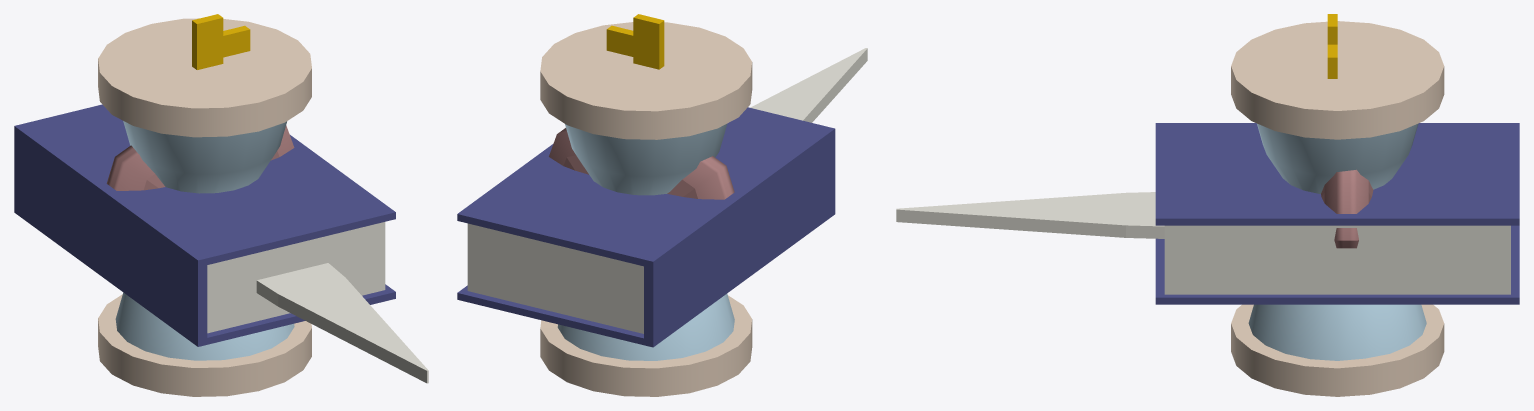
File: Random Props.fbx
The picture shows the model from 3 angles, left to right: view 1: azimuth 30°, elevation 25°; view 2: azimuth 150°, elevation 25°; view 3: azimuth 270°, elevation 25°; orthographic projection.
Parts seen in each view (by area): view 1: Book, Hourglass, Dagger, Key, Heart; view 2: Book, Hourglass, Dagger, Heart, Key; view 3: Book, Hourglass, Dagger, Heart, Key.
Part boxes in pixels (left/top/right/bottom): Book: left=14, top=104, right=395, bottom=346; Hourglass: left=98, top=18, right=311, bottom=396; Dagger: left=256, top=263, right=428, bottom=383; Key: left=192, top=14, right=250, bottom=69; Heart: left=106, top=125, right=294, bottom=190; Book: left=457, top=107, right=835, bottom=347; Hourglass: left=540, top=22, right=752, bottom=396; Dagger: left=750, top=48, right=867, bottom=122; Heart: left=549, top=128, right=734, bottom=199; Key: left=606, top=14, right=664, bottom=69; Book: left=1155, top=123, right=1519, bottom=304; Hourglass: left=1231, top=21, right=1444, bottom=396; Dagger: left=896, top=192, right=1164, bottom=238; Heart: left=1321, top=169, right=1373, bottom=248; Key: left=1327, top=14, right=1337, bottom=78.
Size of the model in its own units: 55.51 by 89.68 by 153.
